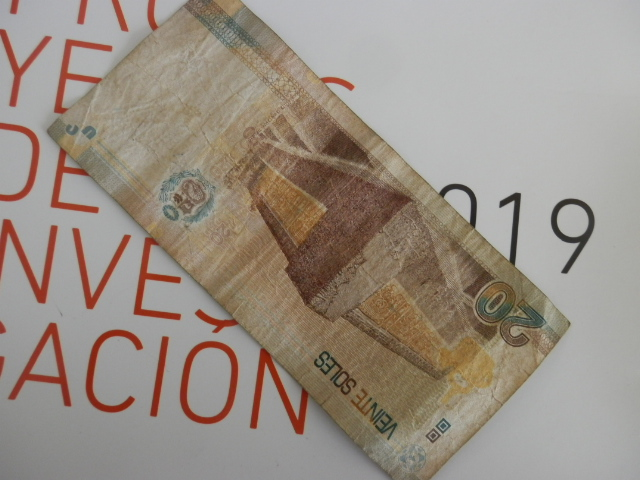B20: (57, 5, 587, 474)
